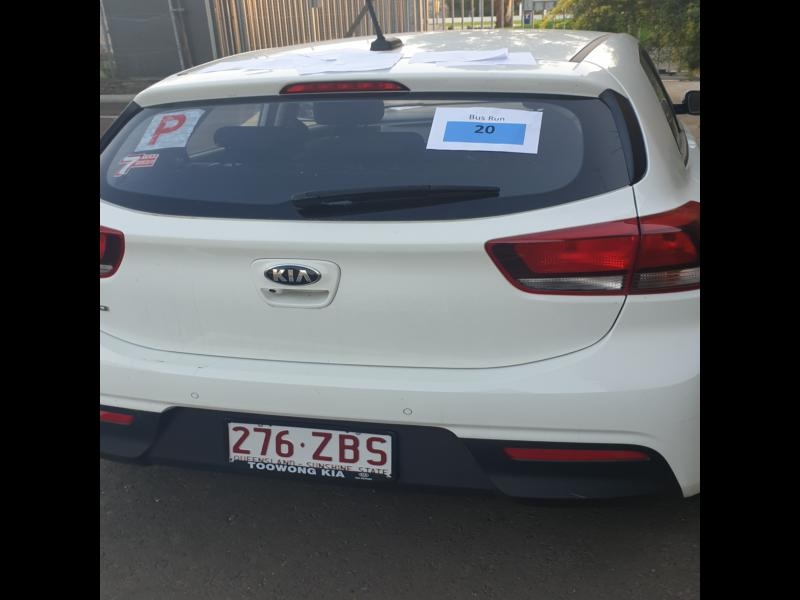BusRun: (442, 119, 526, 145)
PlateNo: (226, 417, 394, 478)
